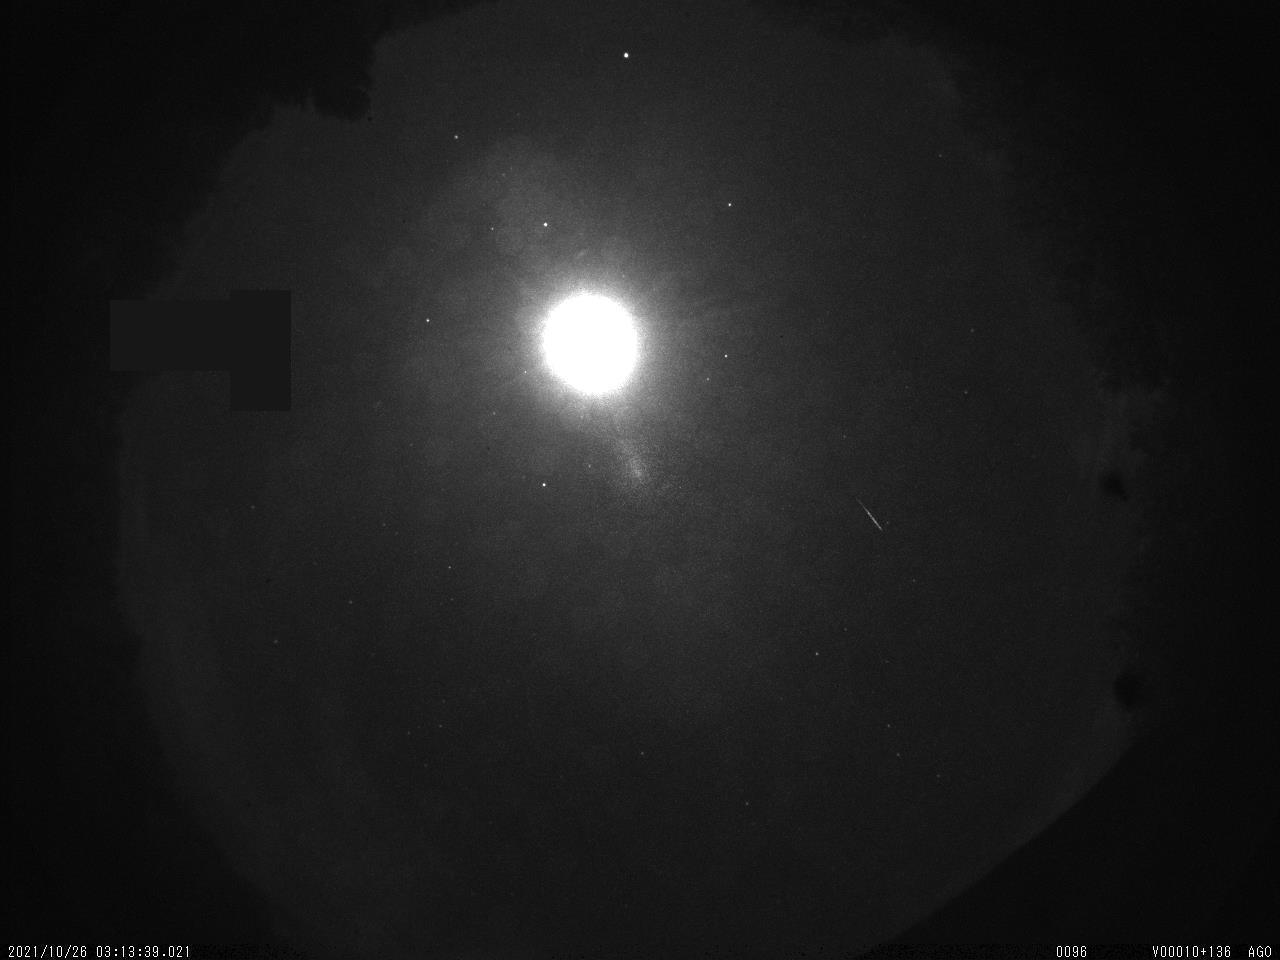Meteor: (852, 489, 896, 544)
